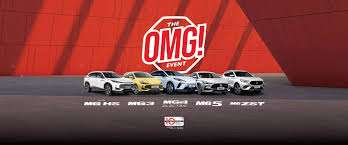car: (84, 68, 129, 98), (224, 69, 262, 95), (126, 71, 160, 96), (194, 70, 225, 95), (163, 71, 196, 93)
